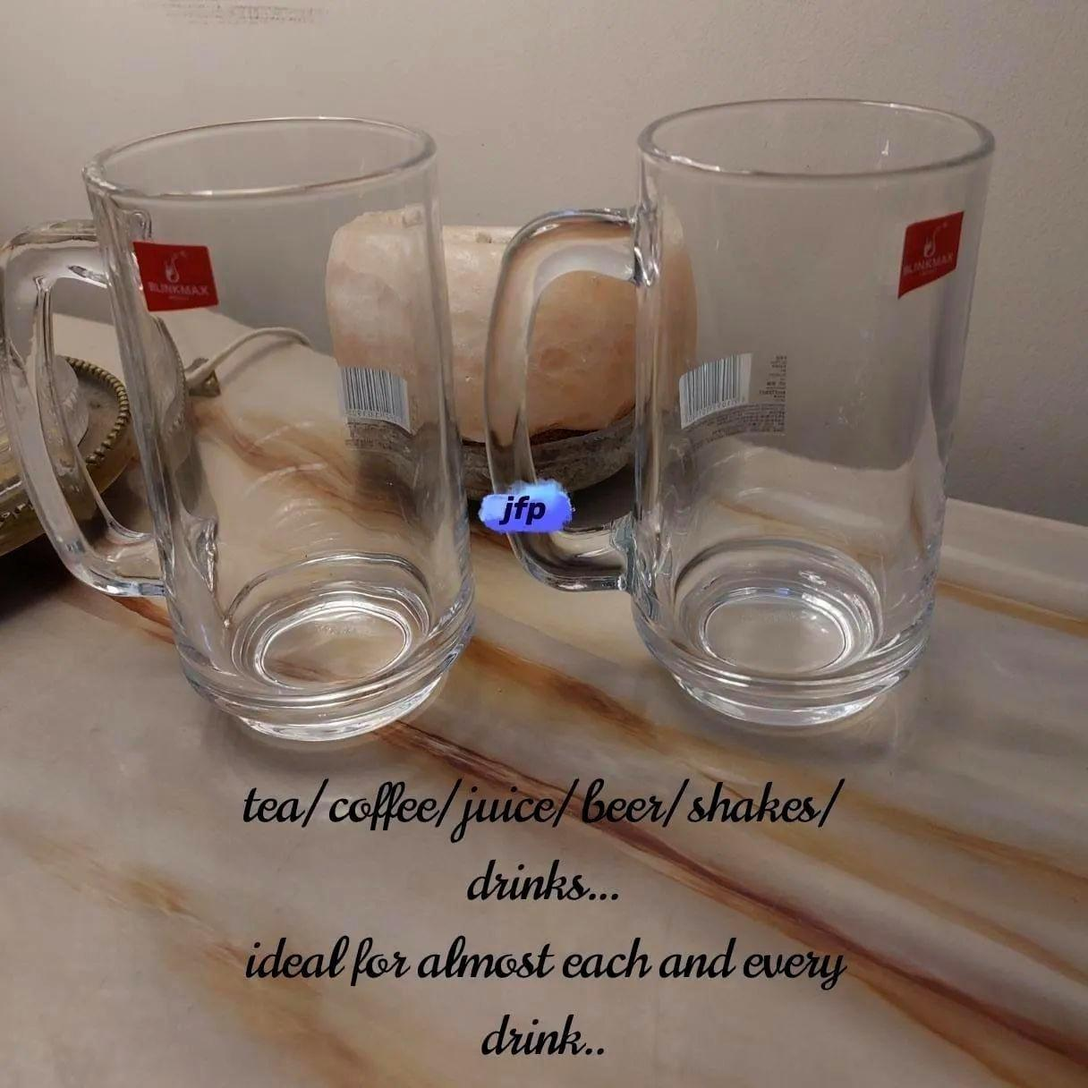glass-mug: (480, 75, 1004, 731), (0, 79, 482, 761)
